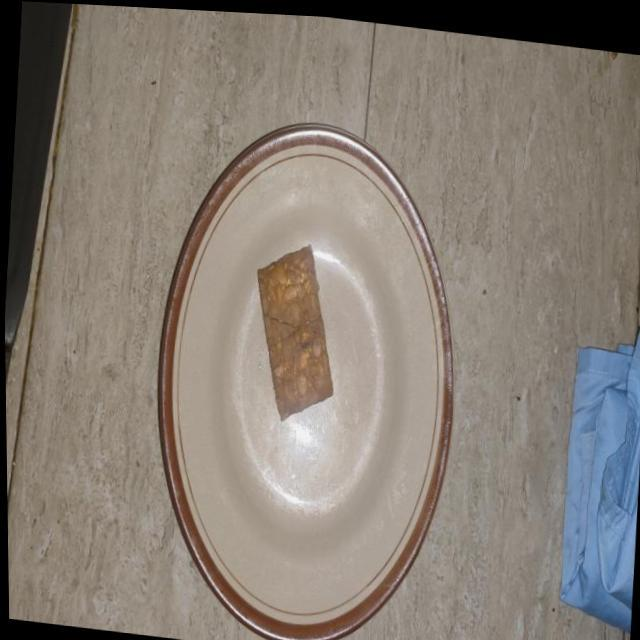tempe_goreng: (258, 248, 332, 420)
